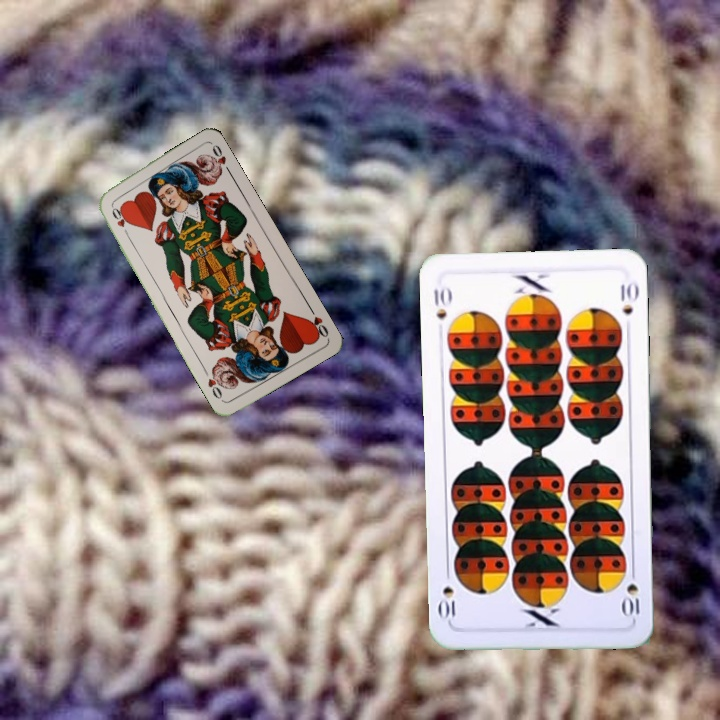HO: (304, 303, 331, 341), (107, 202, 132, 239)
S10: (620, 563, 642, 620), (429, 284, 454, 322)
